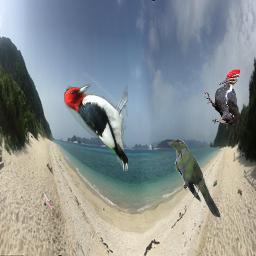Cuckoo: (167, 139, 223, 219)
Woodpecker: (64, 84, 128, 171), (204, 69, 240, 125)
